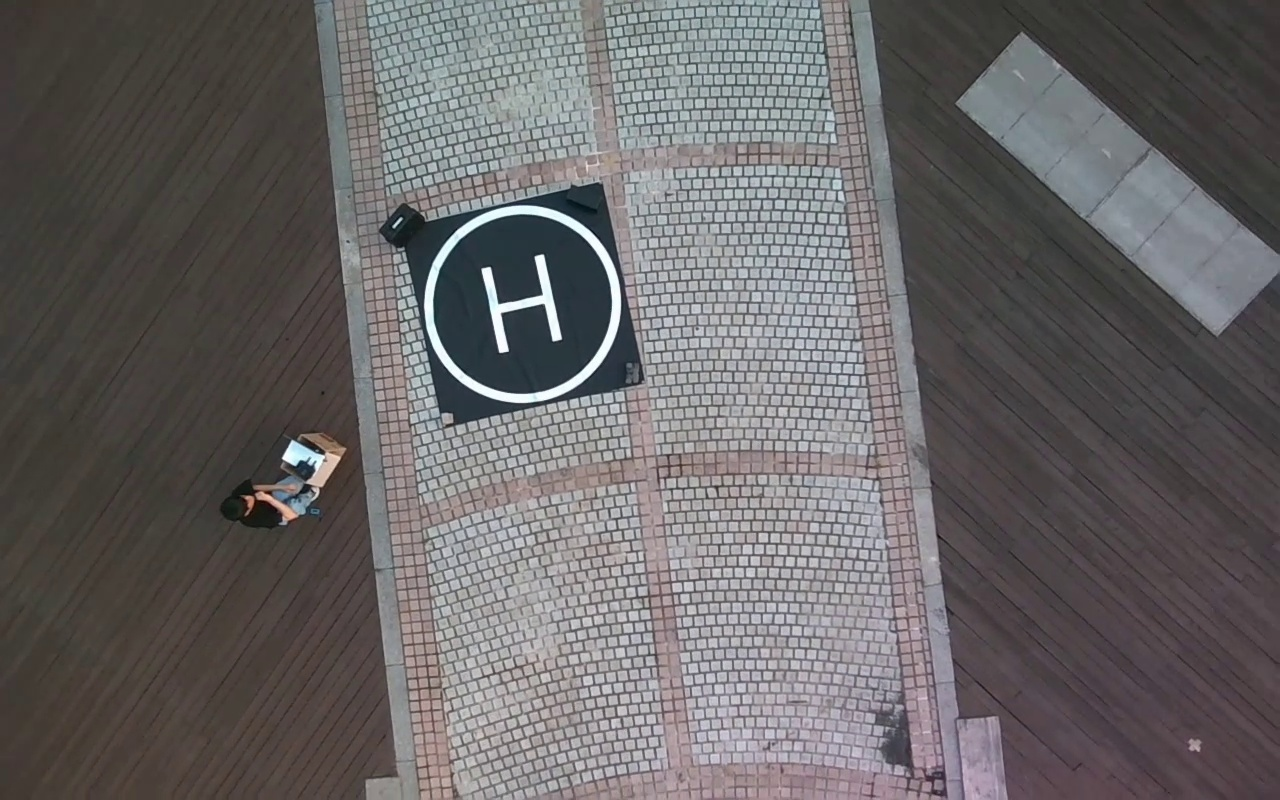H: (480, 253, 566, 354)
heliport: (424, 206, 622, 403)
